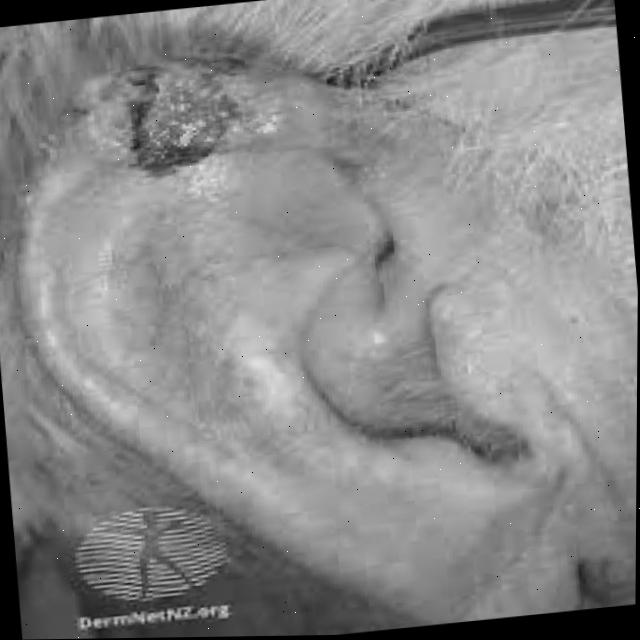Eczema: (104, 74, 254, 176), (531, 154, 568, 230)
